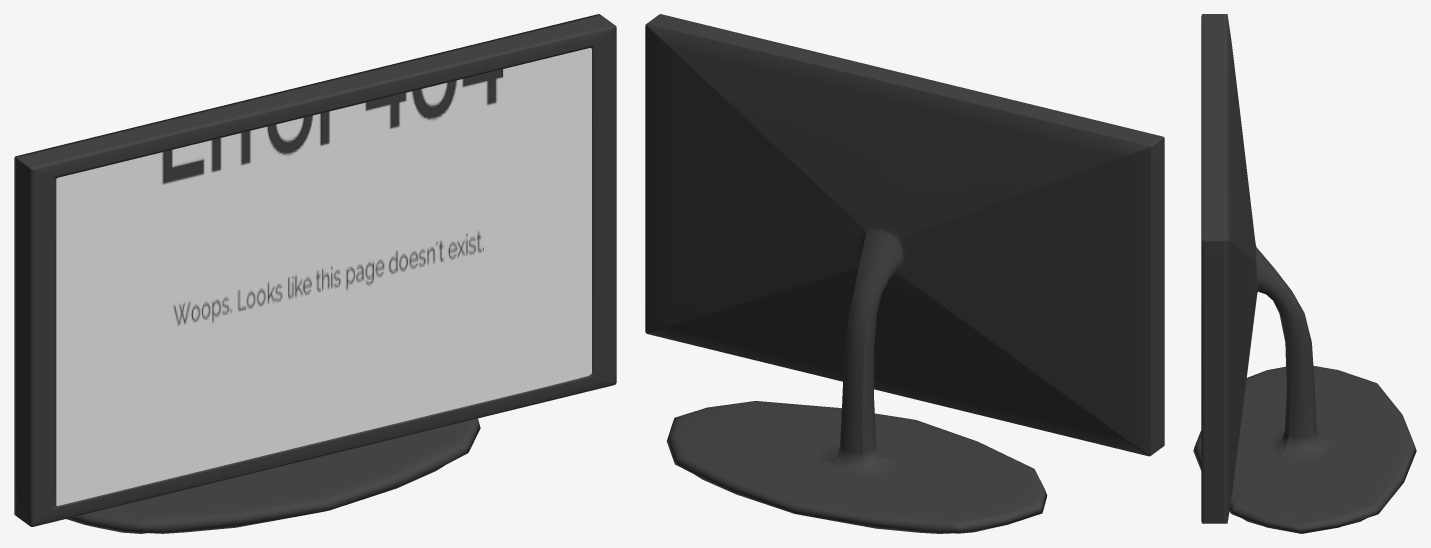
The model's file is monitor.fbx.
3 views of the same model, side by side, from view 1: azimuth 30°, elevation 25°; view 2: azimuth 150°, elevation 25°; view 3: azimuth 270°, elevation 25° (orthographic). The views are drawn at different scales.
Parts seen in each view (by area): view 1: pCylinder2; view 2: pCylinder2; view 3: pCylinder2.
Boxes of the visible parts, bbox=[...] form: pCylinder2: bbox=[14, 14, 616, 533]; pCylinder2: bbox=[645, 14, 1164, 533]; pCylinder2: bbox=[1193, 14, 1416, 533].
Bounding box in the file's own units: 3.1 × 2.11 × 1.29.
3 materials, 1 textured.
